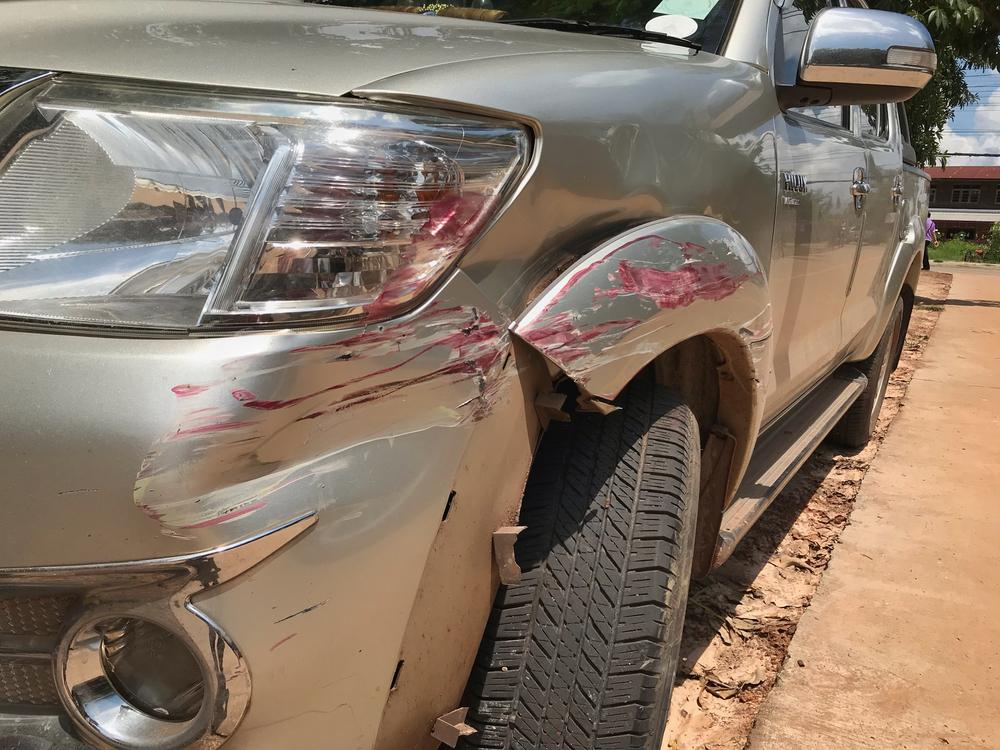dent: (185, 320, 498, 557), (465, 118, 660, 305)
scratch: (515, 232, 761, 385), (125, 368, 251, 539)
